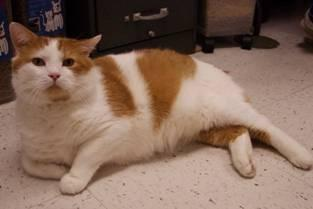cat: (10, 22, 312, 193)
